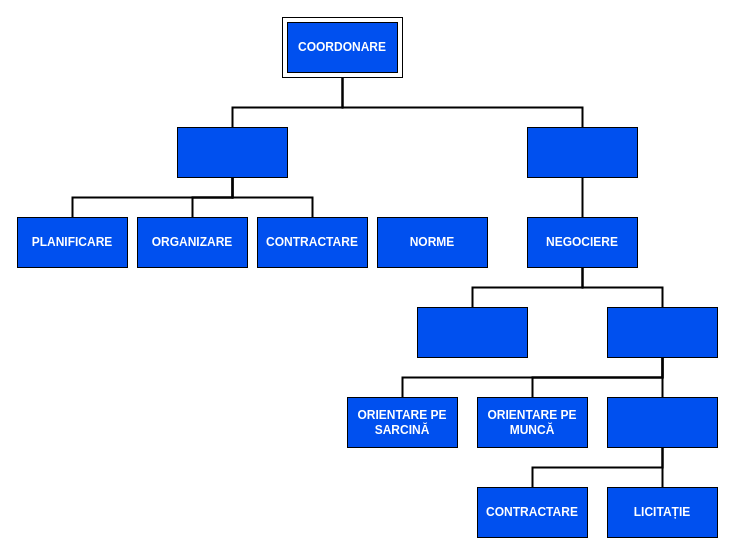
This 735x555 diagram has some shape labels left out. Here are the shapes that lost their labels. From the top down, the centre of each, then its label:
At [232,152]: "COOPERARE".
At [582,152]: "COMPETIȚIE".
At [472,332]: "ARGUMENTARE".
At [662,332]: "TEORIA JOCULUI".
At [662,422]: "MECANISMUL PIEȚEI".
